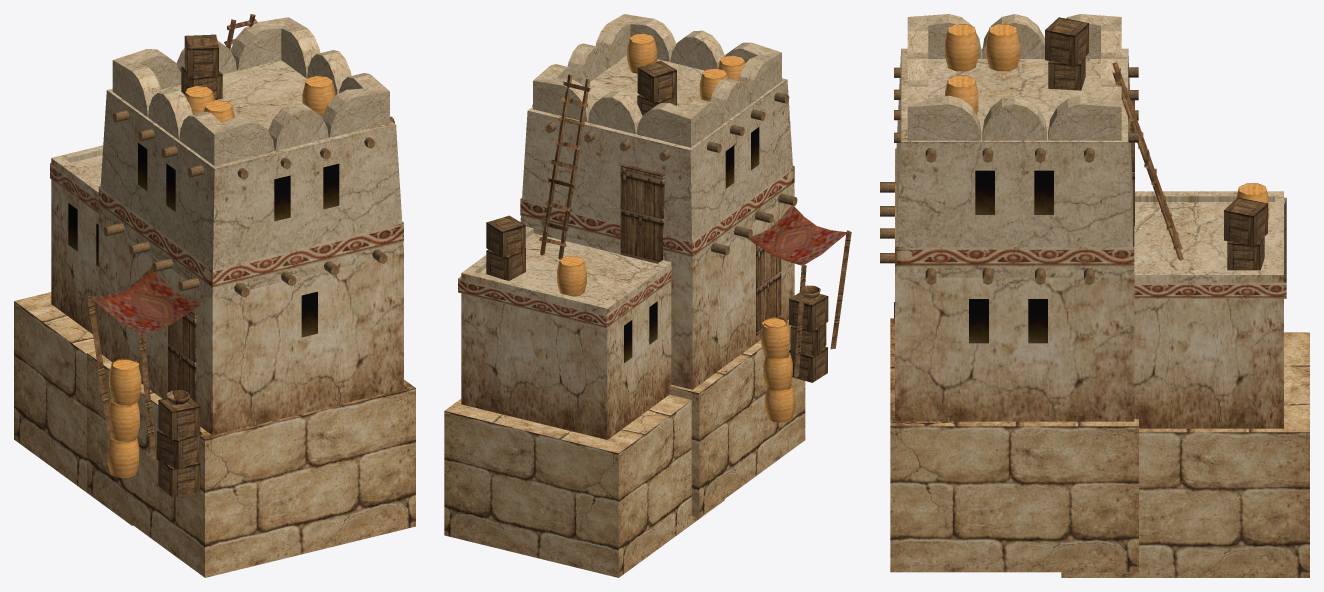
Rendered from storehouse.dae.
3 renders of one model, left to right at view 1: azimuth 30°, elevation 25°; view 2: azimuth 150°, elevation 25°; view 3: azimuth 270°, elevation 25°, orthographic. The views are drawn at different scales.
Visible parts, largest first — view 1: storehouse; view 2: storehouse; view 3: storehouse.
Boxes of the visible parts, x1,y1,x2,y2 form: storehouse: (14,14,415,577); storehouse: (444,14,851,577); storehouse: (880,14,1309,577).
Bounding box in the file's own units: 15.1 × 19.39 × 24.34.
